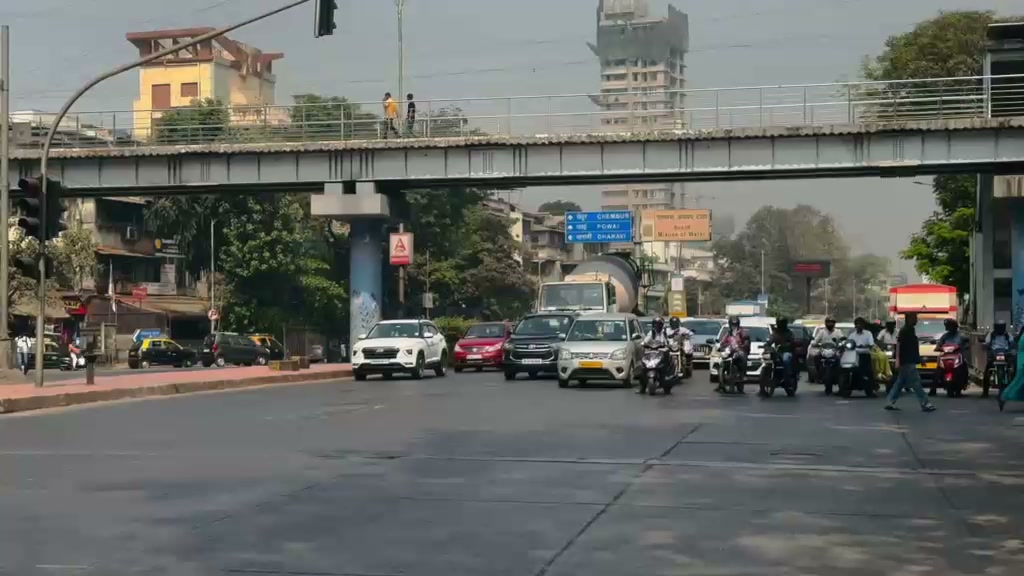car: (556, 314, 643, 388), (351, 319, 449, 381), (502, 312, 576, 381), (451, 322, 512, 373), (128, 335, 195, 370), (201, 333, 266, 367), (678, 317, 726, 359), (246, 334, 285, 362)
motorcycle: (757, 341, 800, 399), (807, 333, 846, 394), (929, 340, 969, 398), (638, 345, 682, 396), (709, 348, 748, 395)
pedestrian: (882, 314, 936, 412), (759, 317, 806, 394), (639, 314, 678, 391), (841, 317, 877, 397), (933, 318, 968, 396), (809, 317, 846, 384), (997, 325, 1024, 413), (717, 317, 751, 378), (666, 317, 694, 375), (383, 93, 399, 137)
